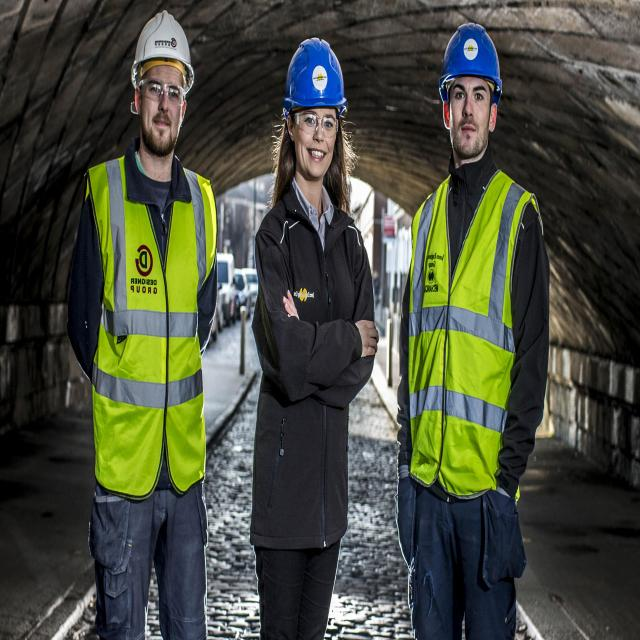Reflective-Jacket: (85, 158, 221, 497), (407, 167, 545, 497)
Safety-Helmet: (281, 32, 348, 114), (129, 7, 195, 84), (438, 18, 503, 90)
